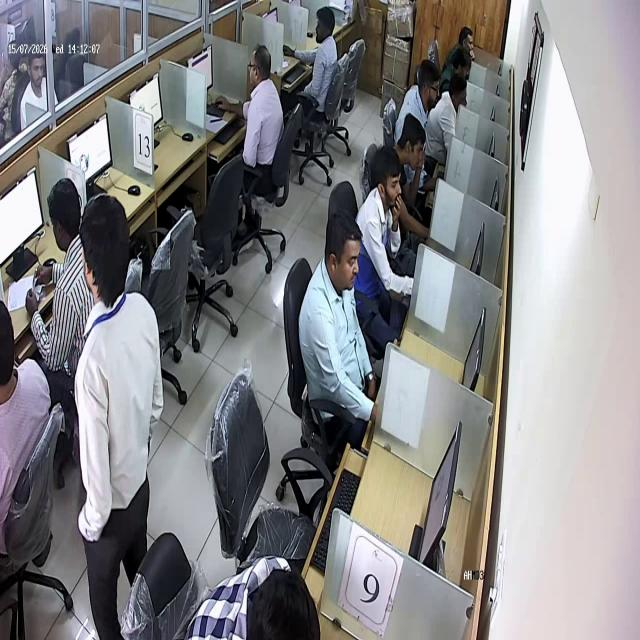paper-chit: (26, 268, 50, 298)
